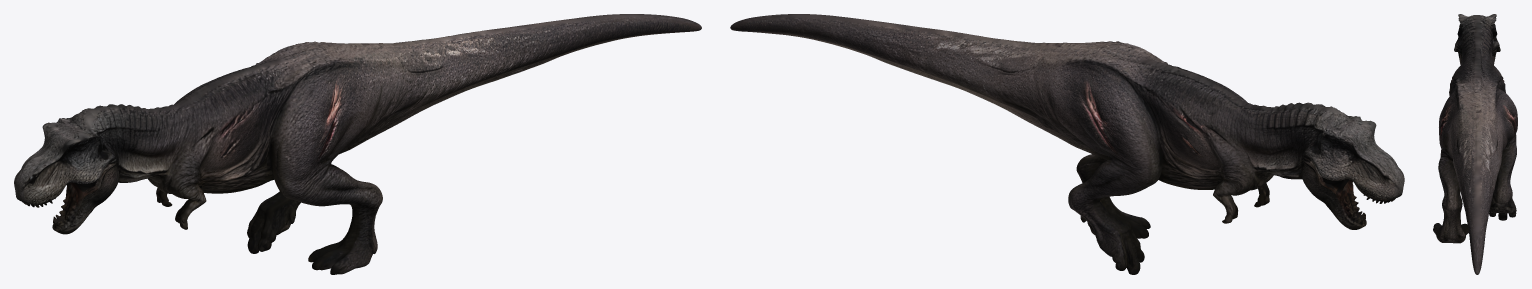
The model's file is skin.glb.
3 views of the same model, side by side, from view 1: azimuth 30°, elevation 25°; view 2: azimuth 150°, elevation 25°; view 3: azimuth 270°, elevation 25° (orthographic). The views are drawn at different scales.
Parts seen in each view (by area): view 1: node_0; view 2: node_0; view 3: node_0.
Boxes of the visible parts, left/top/right/bottom form: node_0: left=14, top=14, right=701, bottom=274; node_0: left=730, top=14, right=1404, bottom=274; node_0: left=1433, top=14, right=1517, bottom=274.
Size of the model in its own units: 1.19 by 0.3419 by 0.1799.
Materials: 1 (1 with a texture image).
